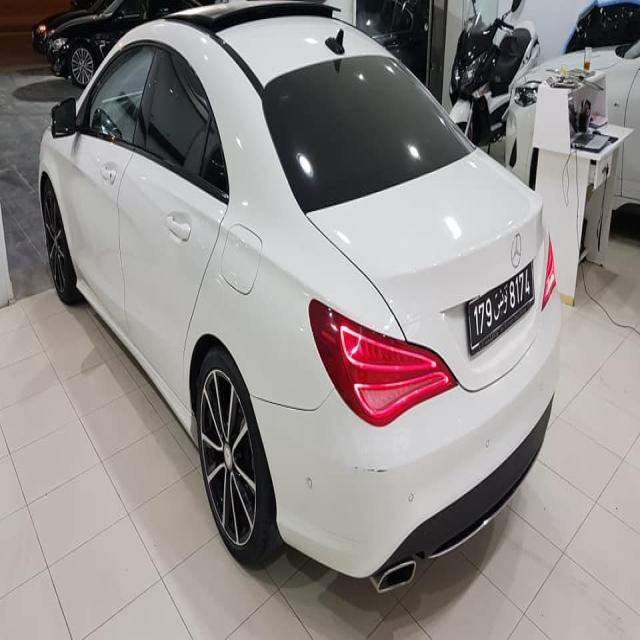LP: (471, 257, 534, 343)
